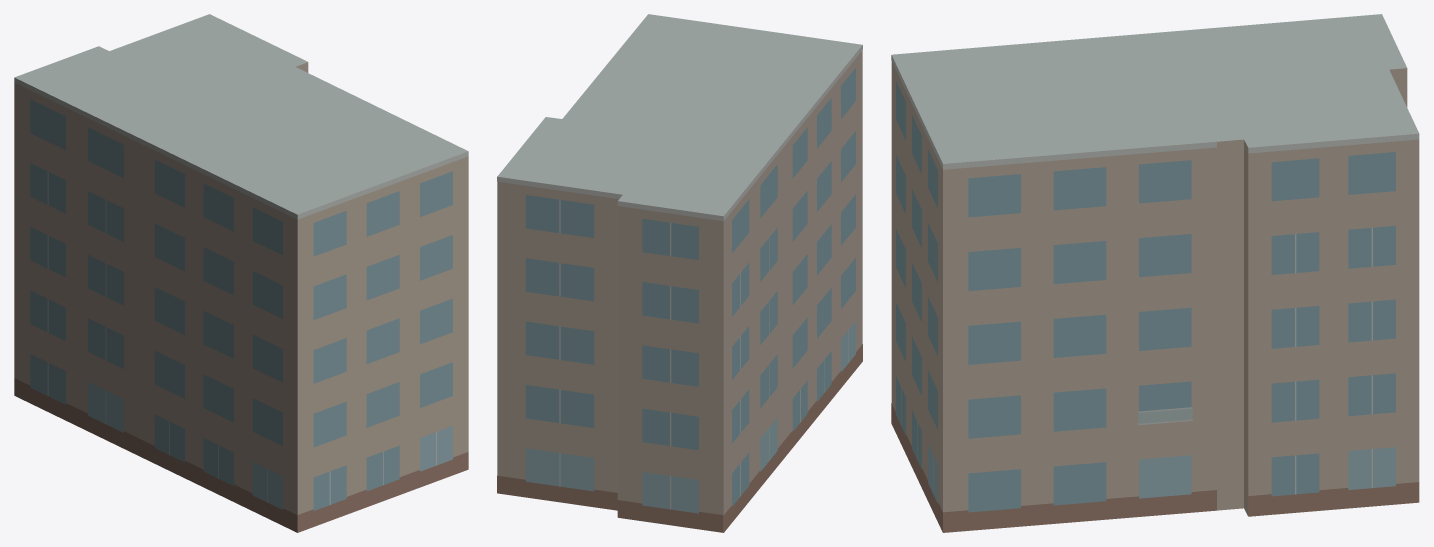
The model's file is survey-upis-32917610.glb.
The picture shows the model from 3 angles, left to right: view 1: azimuth 30°, elevation 25°; view 2: azimuth 150°, elevation 25°; view 3: azimuth 270°, elevation 25°; orthographic projection. The views are drawn at different scales.
Parts seen in each view (by area): view 1: survey-upis-32917610.tmp; view 2: survey-upis-32917610.tmp; view 3: survey-upis-32917610.tmp.
Boxes of the visible parts, x1,y1,x2,y2 form: survey-upis-32917610.tmp: [14, 14, 468, 532]; survey-upis-32917610.tmp: [497, 14, 862, 532]; survey-upis-32917610.tmp: [891, 14, 1419, 532].
Bounding box in the file's own units: 13.7 × 15.7 × 20.38.
